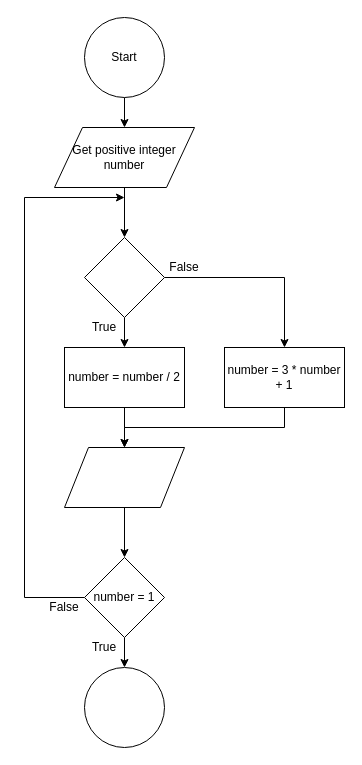
The diagram is 362 pixels wide and 765 high, and some of its shapes have lost their labels. The box of each missing label's shape, as (x1, y1, x2, y2) in pixels:
End: (84, 666, 164, 748)
number is even: (84, 236, 164, 318)
print number: (64, 446, 184, 508)
